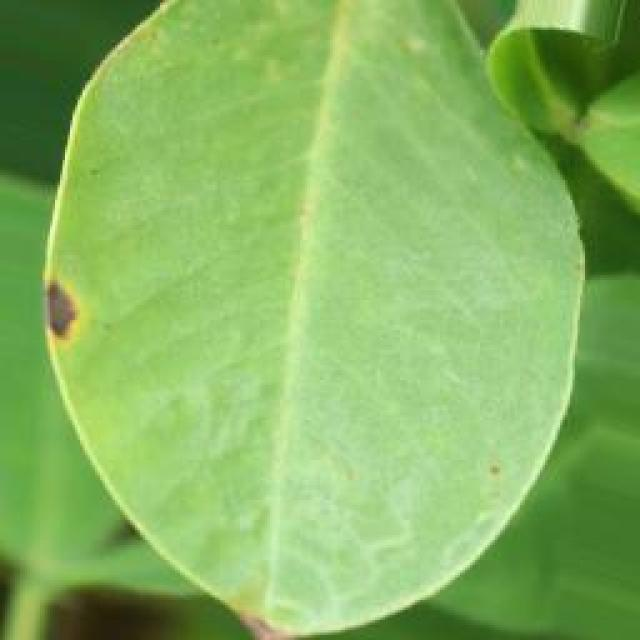Sigatoka: (0, 252, 118, 404), (468, 437, 527, 518), (222, 592, 312, 640)
